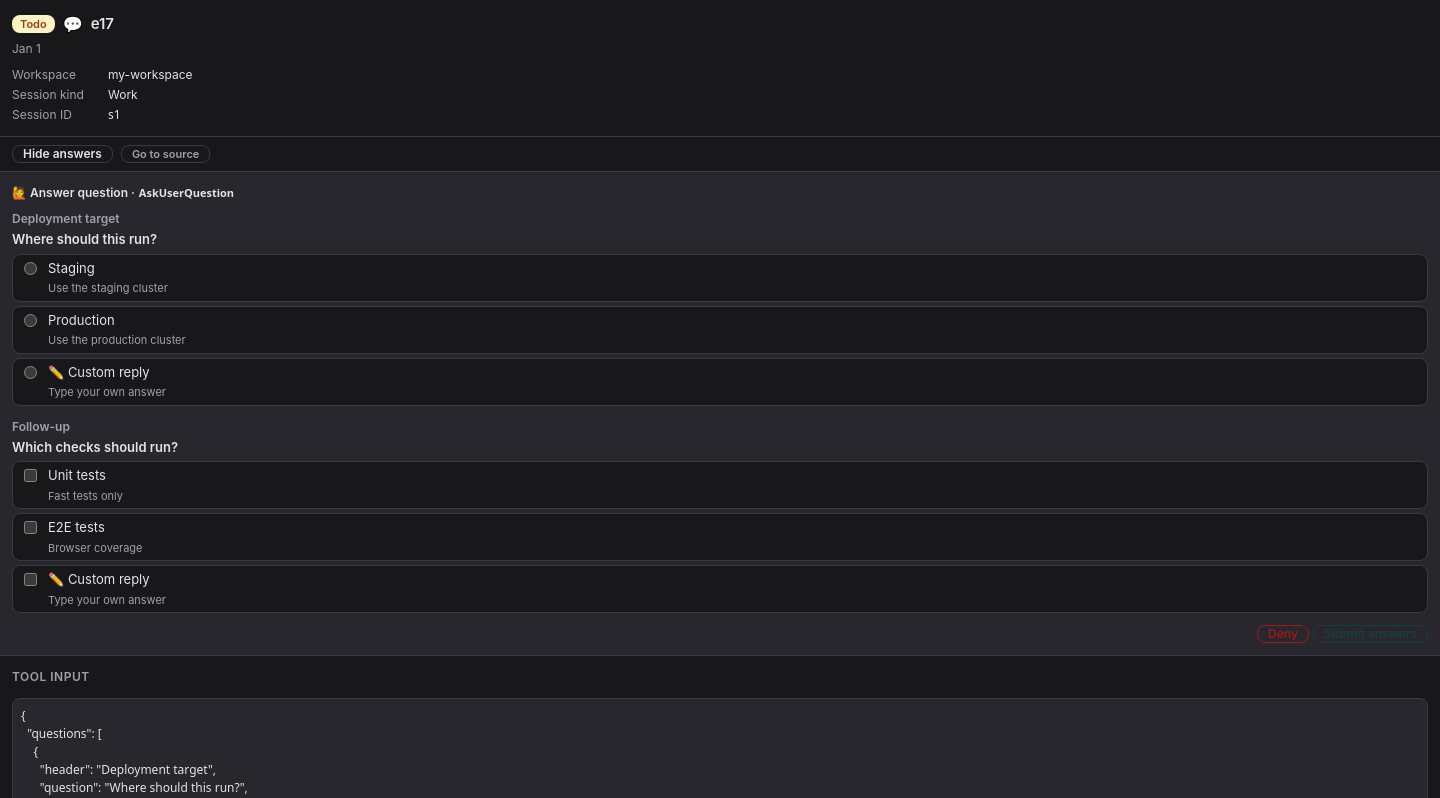
EventDetail.vue — AskUserQuestion › keeps submit disabled until every question has an answer
The width and height of the screenshot is (1440, 798).
Click the radio button labelled "Staging Use the staging cluster" at (30, 268), box [24,262,37,274]
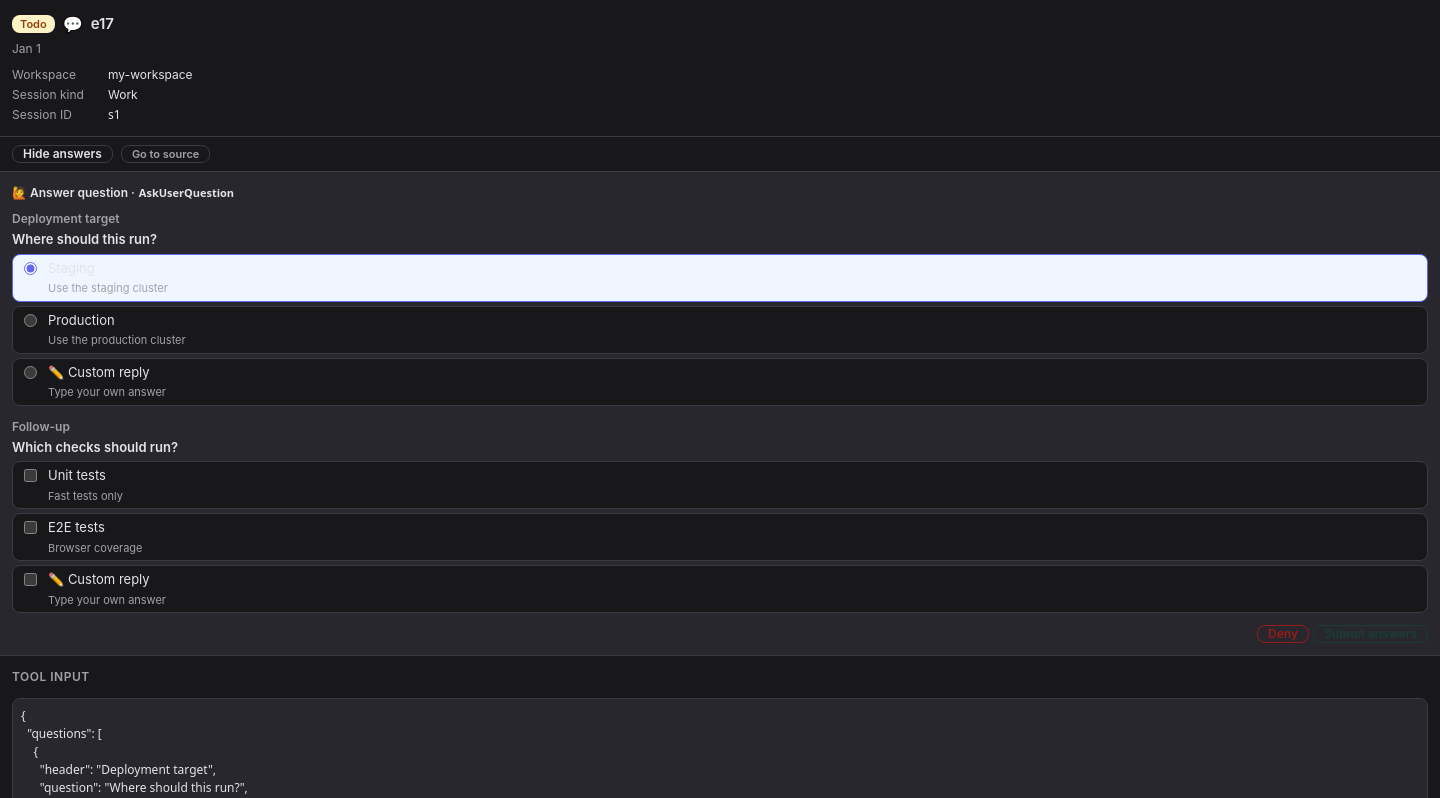
Click the checkbox labelled "Unit tests Fast tests only" at (30, 476), box [24,469,37,482]
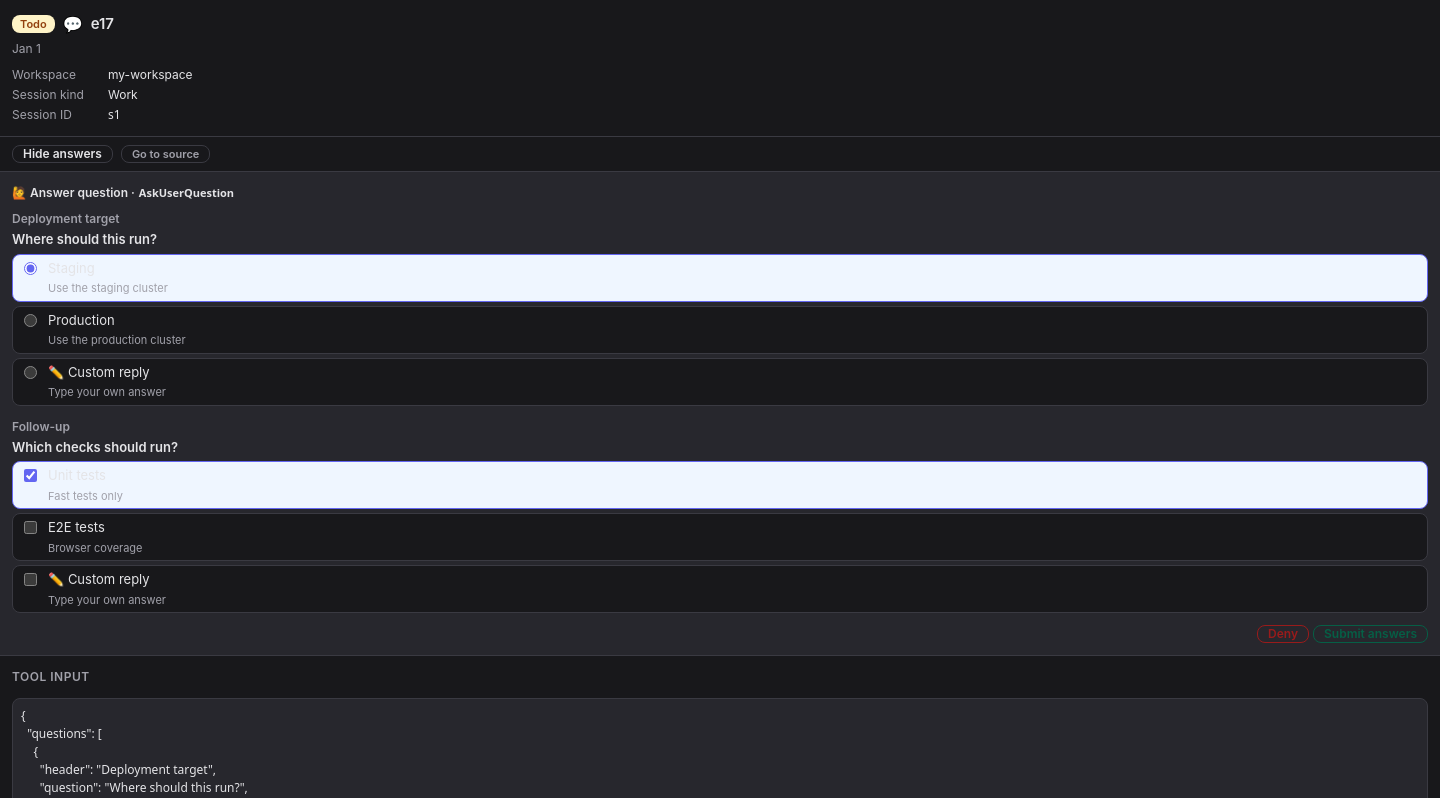
Check: the button with class "wc-btn-allow" is enabled, box [1313,625,1428,643]
